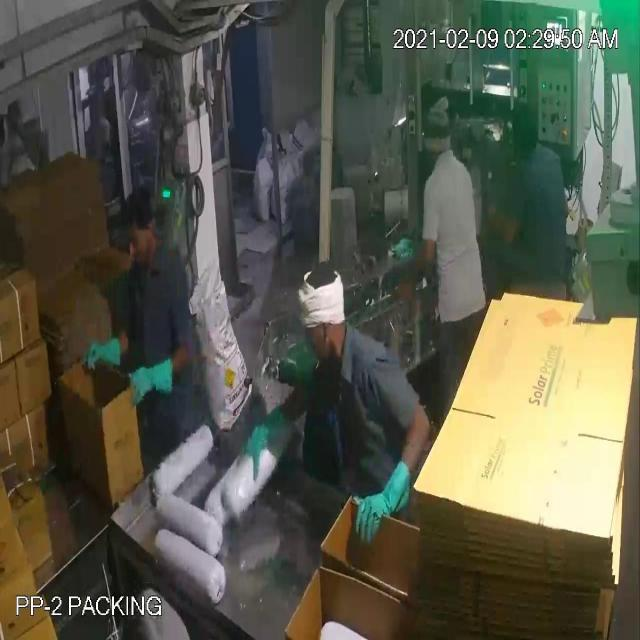Gloves: (48, 54, 410, 500)
